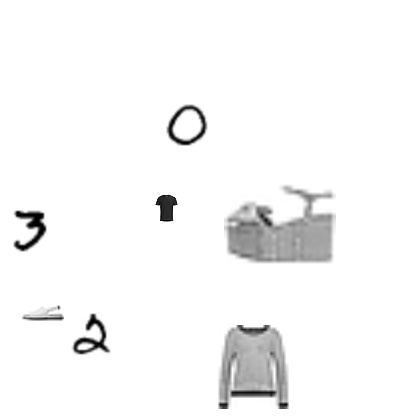0: (157, 97, 213, 153)
2: (64, 308, 120, 364)
3: (2, 199, 58, 255)
Pullover: (210, 325, 294, 409)
Sandal: (224, 166, 336, 278), (22, 292, 64, 334)
T-shirt/top: (152, 194, 180, 222)
